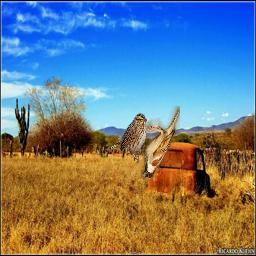Sparrow: (142, 107, 181, 180), (107, 113, 147, 163)
